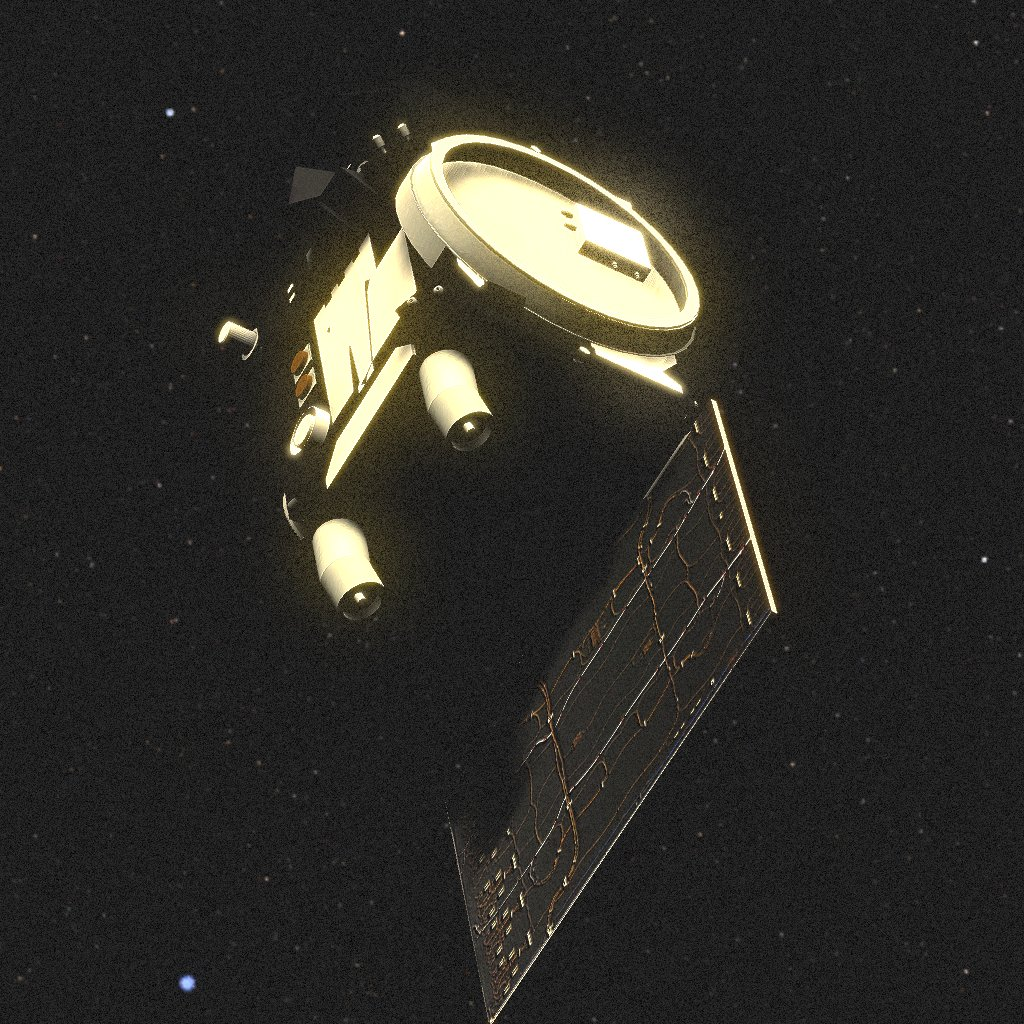proba_3_csc: (219, 74, 777, 1024)
